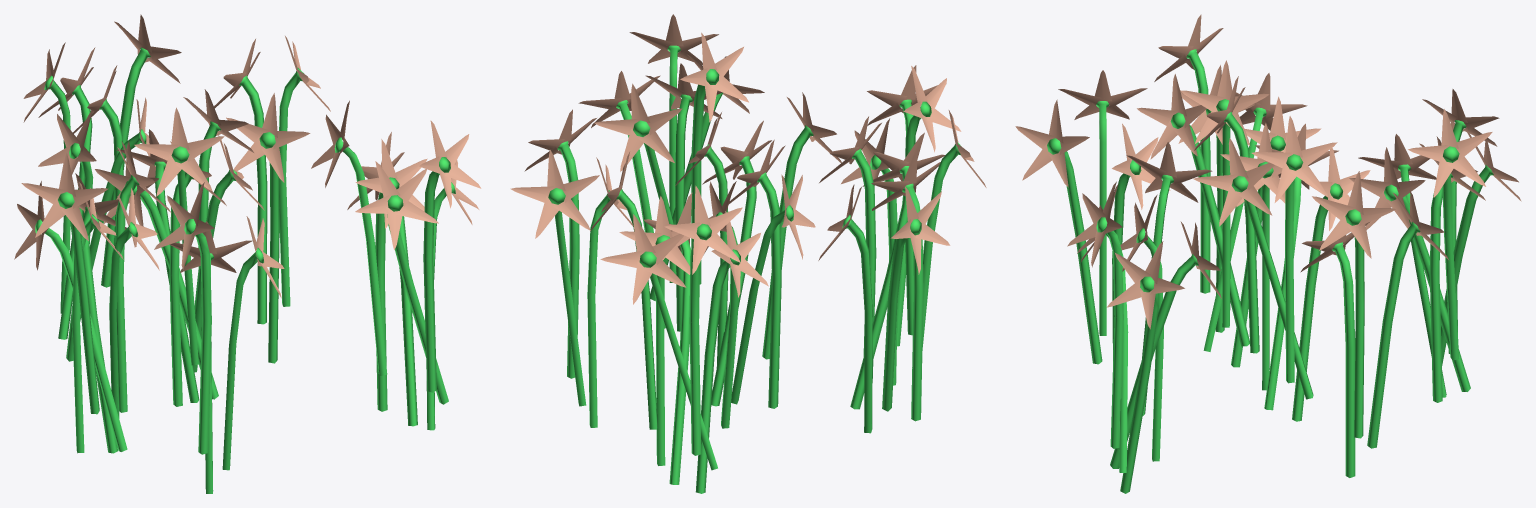
The model's file is Flower_B_GRP.fbx.
3 views of the same model, side by side, from view 1: azimuth 30°, elevation 25°; view 2: azimuth 150°, elevation 25°; view 3: azimuth 270°, elevation 25° (orthographic).
Visible parts, largest first — view 1: Flower_B_GRP_LOD0; view 2: Flower_B_GRP_LOD0; view 3: Flower_B_GRP_LOD0.
Part boxes in pixels (bbox=[...]): Flower_B_GRP_LOD0: bbox=[14, 14, 481, 493]; Flower_B_GRP_LOD0: bbox=[510, 14, 986, 493]; Flower_B_GRP_LOD0: bbox=[1015, 14, 1521, 493].
Size of what is drawn, in the model's own units: 1.37 by 1.03 by 1.45.
